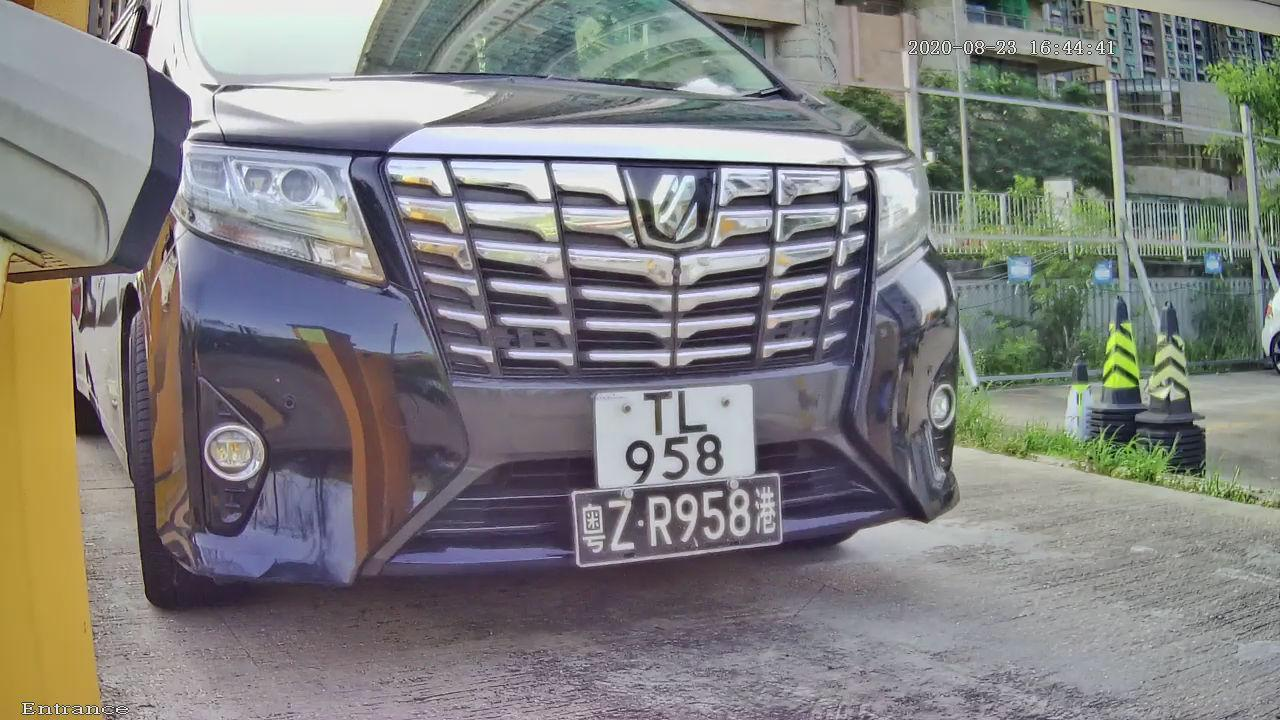Car: (29, 1, 1023, 672)
License Plate: (578, 354, 778, 537)
